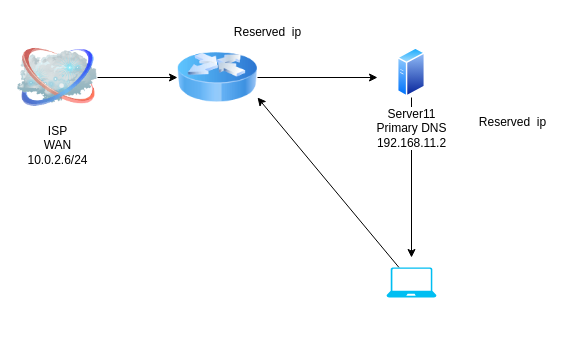
The diagram is 574 pixels wide and 350 high, and some of its shapes have lost their labels. Each missing label, with the centre of its shape:
pfSense LAN 192.168.11.1/24 Alternate DNS: [217,77]
Windows 10 PC 192.168.11.101: [411,282]
